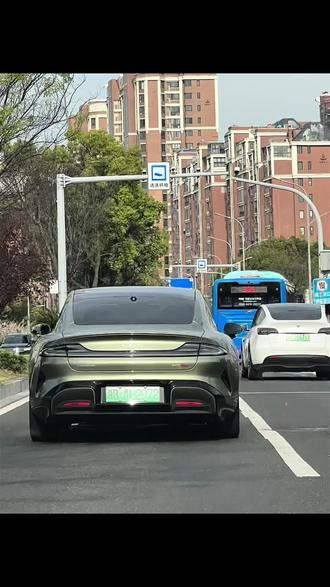other: (242, 297, 330, 378)
su7: (33, 283, 245, 446)
